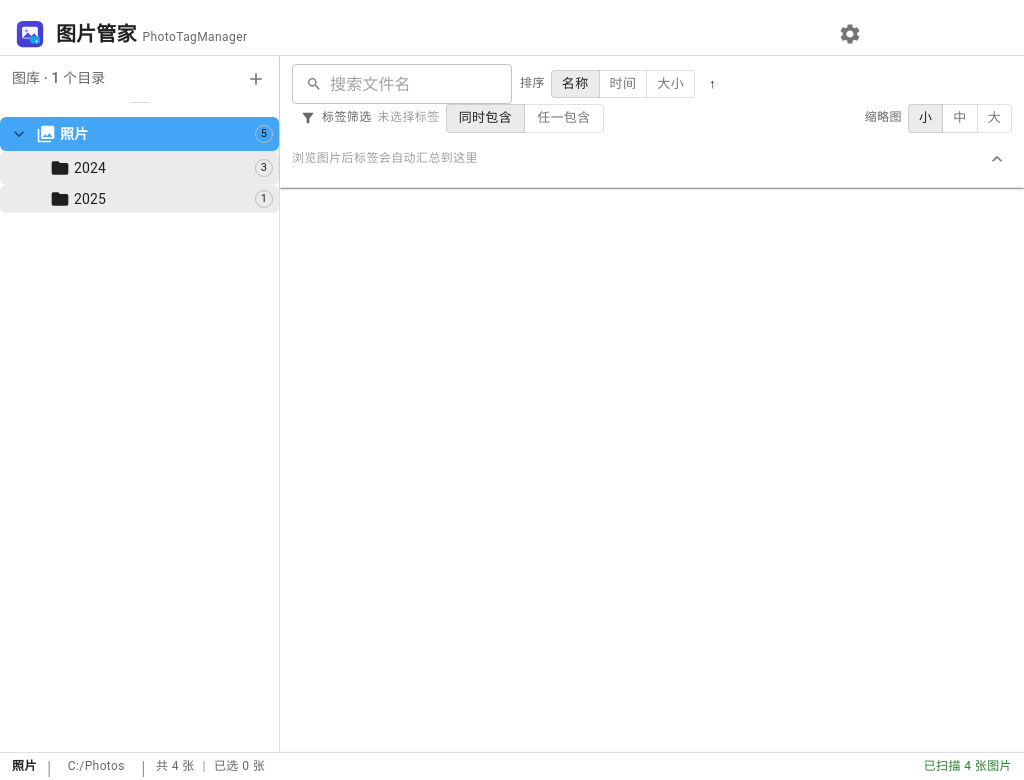
左栏右键菜单的「取消隐藏」区 › 根行菜单：没有「隐藏文件夹」（根本身不许隐藏），有改别名与删除目录
Step 1. Right-click the list item with aria-label "目录 照片" → (140,134), box 0,117 -> 279,151
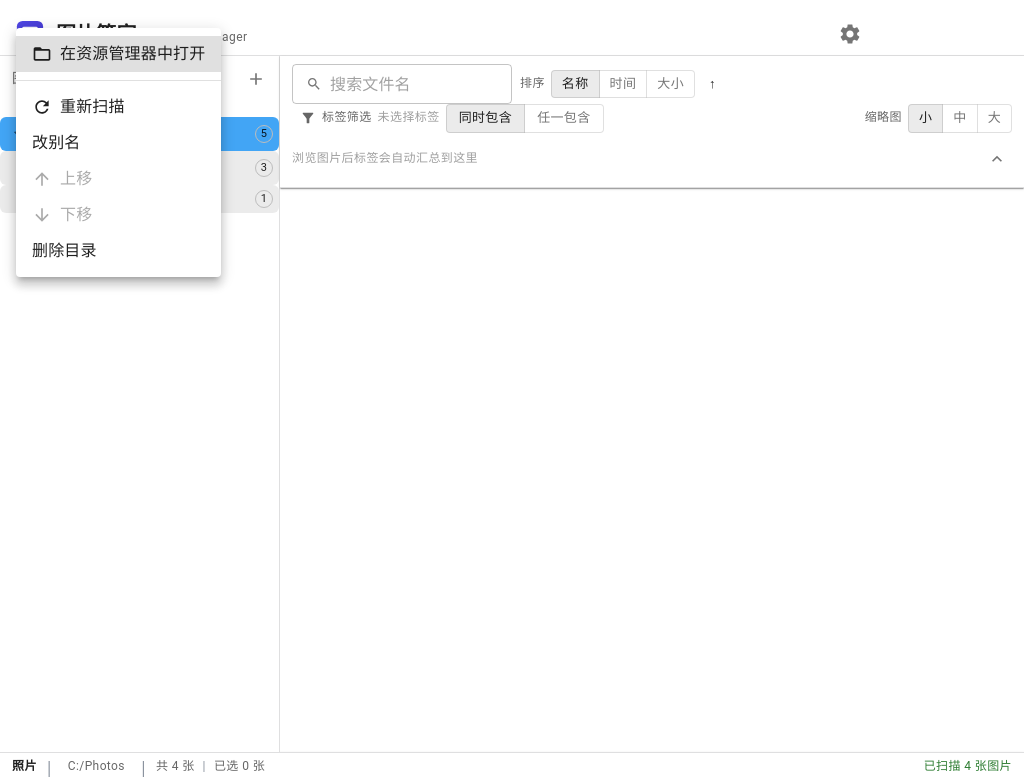
Now the menu item "改别名" is shown, box 32,133 -> 80,152
Now the menu item "删除目录" is shown, box 32,241 -> 97,260
